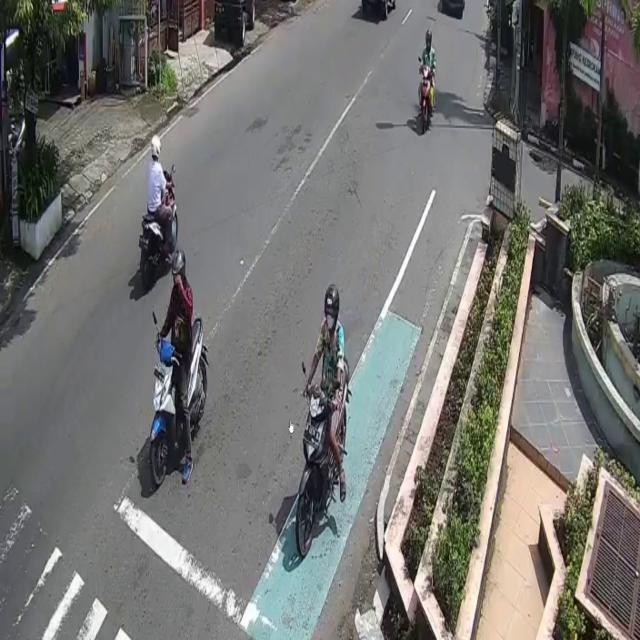bus: (297, 354, 349, 560), (149, 317, 209, 484), (139, 170, 179, 288), (420, 64, 434, 134)
